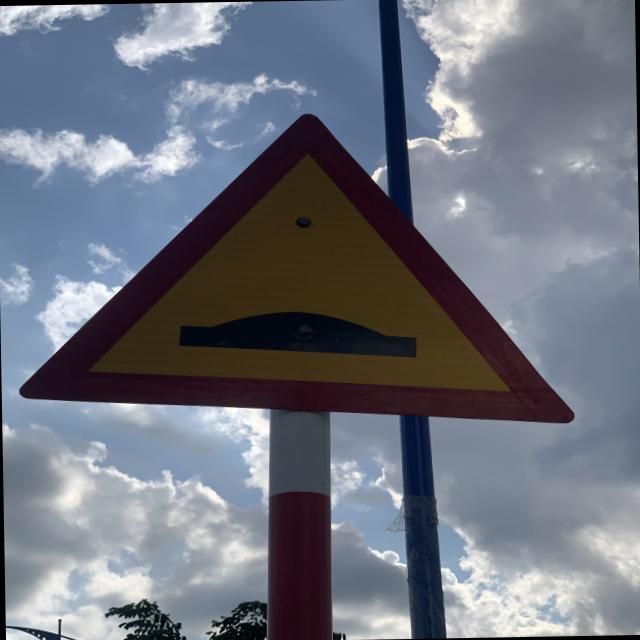Duong_Cong_Ben_Phai: (13, 105, 575, 431)
